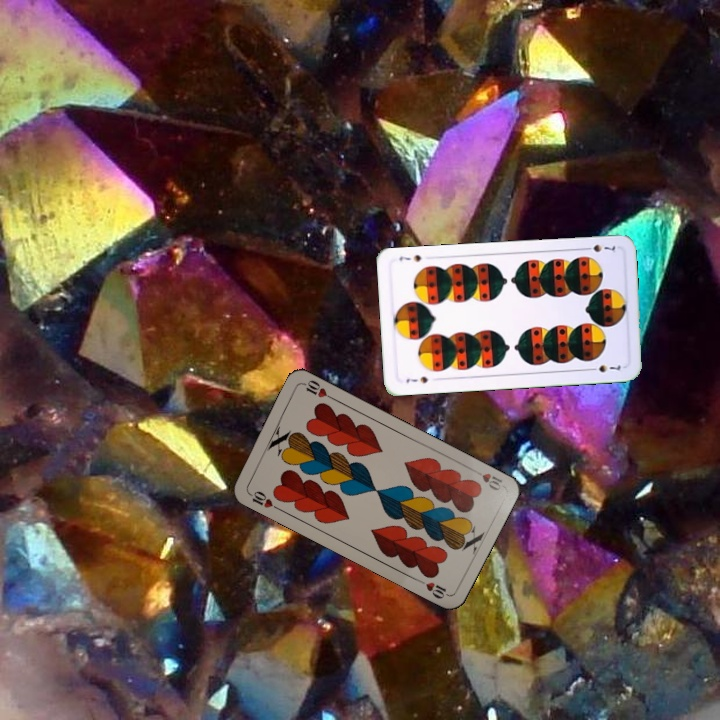H10: (468, 465, 505, 493), (244, 487, 282, 512)
S7: (579, 240, 618, 255), (402, 372, 431, 386)
